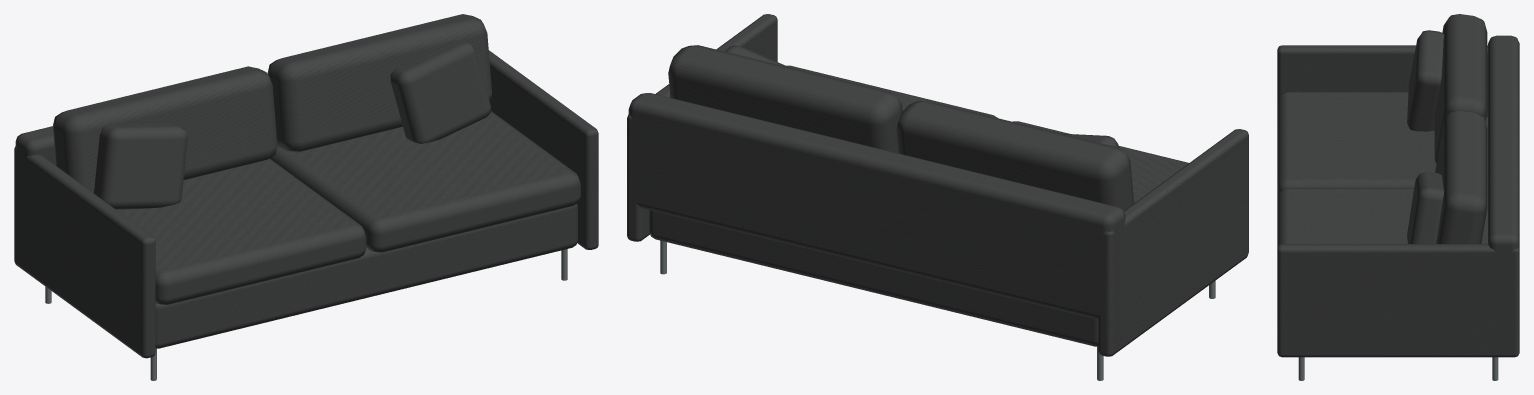
The model's file is soderhamn-mobile.glb.
3 views of the same model, side by side, from view 1: azimuth 30°, elevation 25°; view 2: azimuth 150°, elevation 25°; view 3: azimuth 270°, elevation 25° (orthographic). The views are drawn at different scales.
Parts seen in each view (by area): view 1: SÖDERHAMN 3-seat sofa; view 2: SÖDERHAMN 3-seat sofa; view 3: SÖDERHAMN 3-seat sofa.
Boxes of the visible parts, bbox=[...] form: SÖDERHAMN 3-seat sofa: bbox=[14, 14, 598, 380]; SÖDERHAMN 3-seat sofa: bbox=[627, 14, 1248, 380]; SÖDERHAMN 3-seat sofa: bbox=[1277, 14, 1519, 380].
Size of the model in its own units: 1.98 by 0.83 by 0.99.
Materials: 2 (1 with a texture image).
